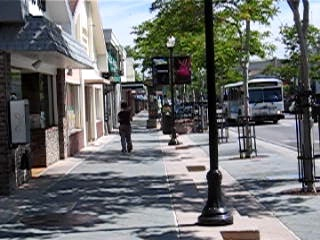person: (118, 102, 136, 155), (117, 102, 135, 155), (119, 102, 137, 155), (118, 101, 136, 154), (118, 103, 136, 156)
target_negative: (122, 26, 319, 216), (139, 19, 264, 237), (188, 44, 309, 222), (147, 207, 220, 232), (280, 205, 308, 226)
